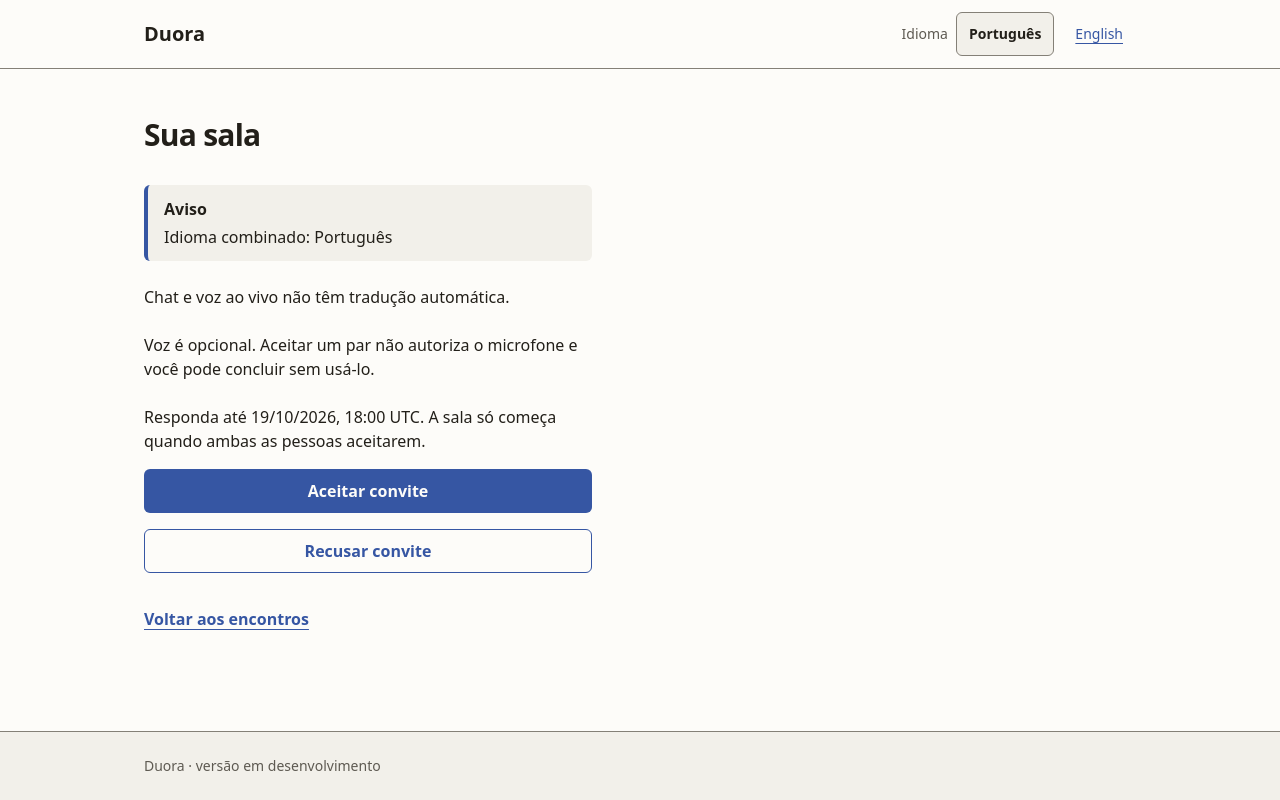
Scenario: localized room › requires an explicit invitation acceptance and allows rejection
The width and height of the screenshot is (1280, 800).
Expected: the button "Aceitar convite" is shown, [144, 469, 592, 513]
Click the button "Recusar convite": x=368, y=551 [144, 529, 592, 573]
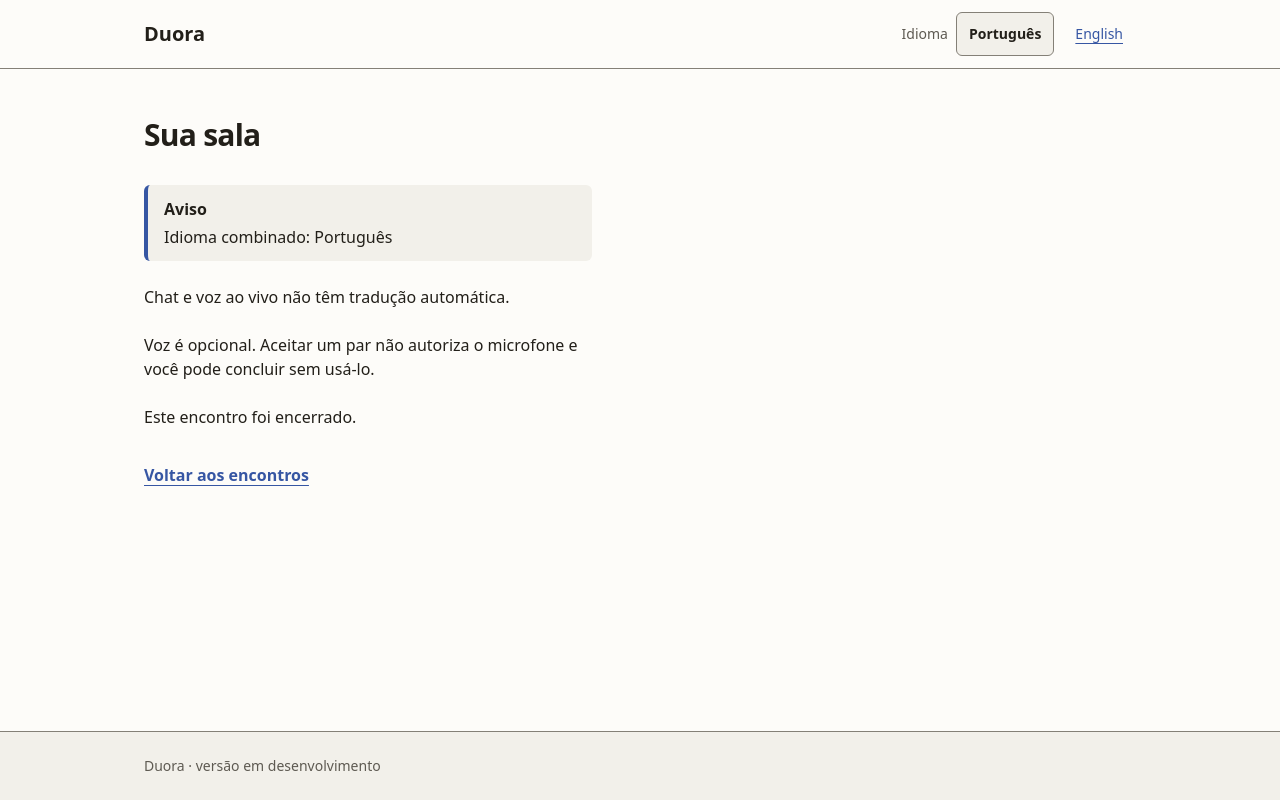
Expected: the text "Este encontro foi encerrado." is shown, [144, 406, 356, 428]
